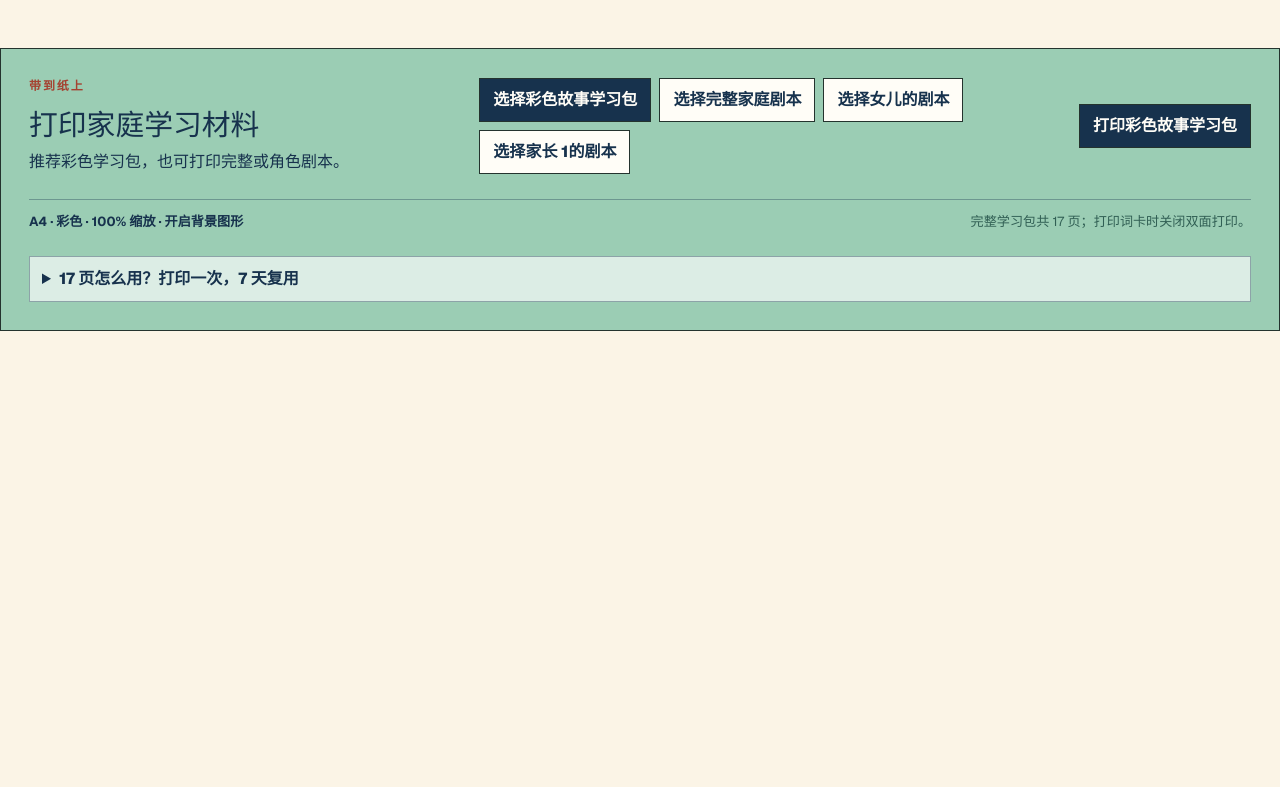
StoryStage family story flow › prints the complete family script with every line in stable scene and line blocks
Step 1. Click the button "选择完整家庭剧本" → {"x": 737, "y": 100}, box left=659, top=78, right=815, bottom=122
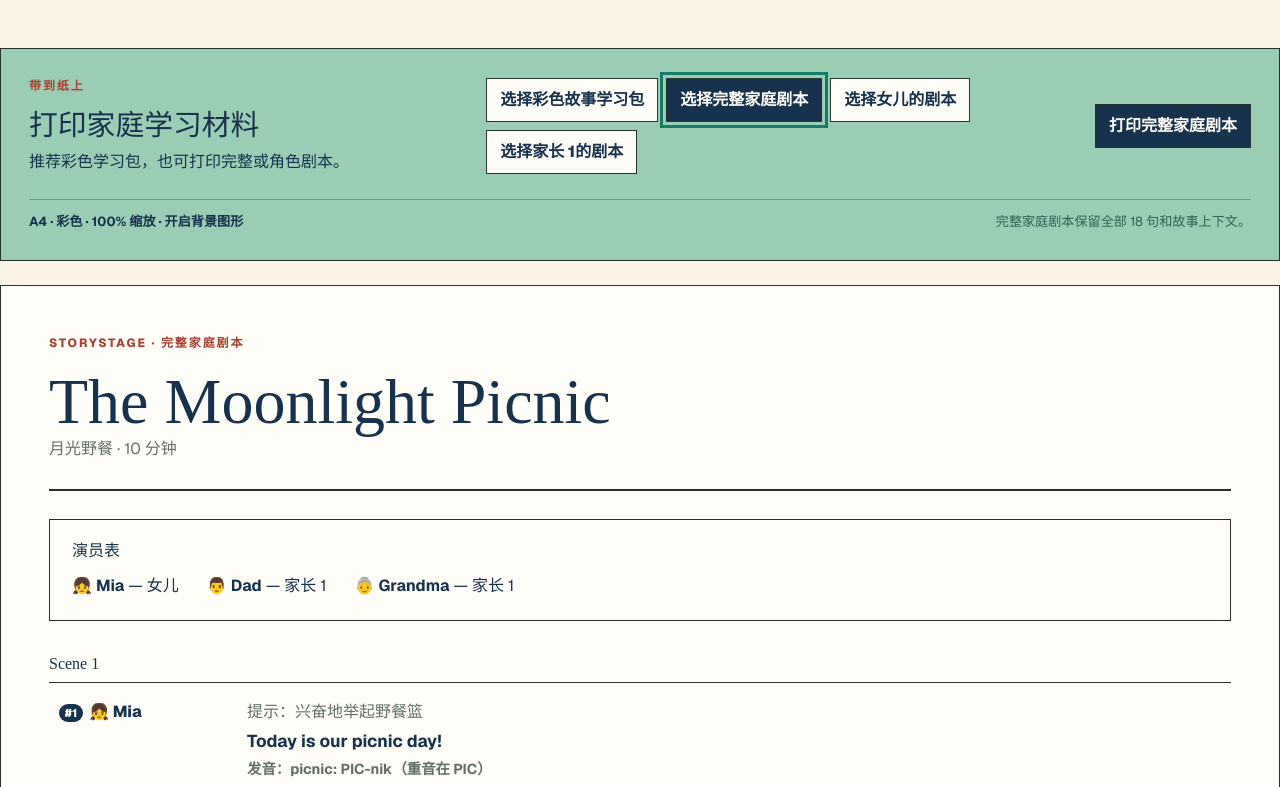
Expected: the button "打印完整家庭剧本" is shown, left=1095, top=104, right=1251, bottom=148
